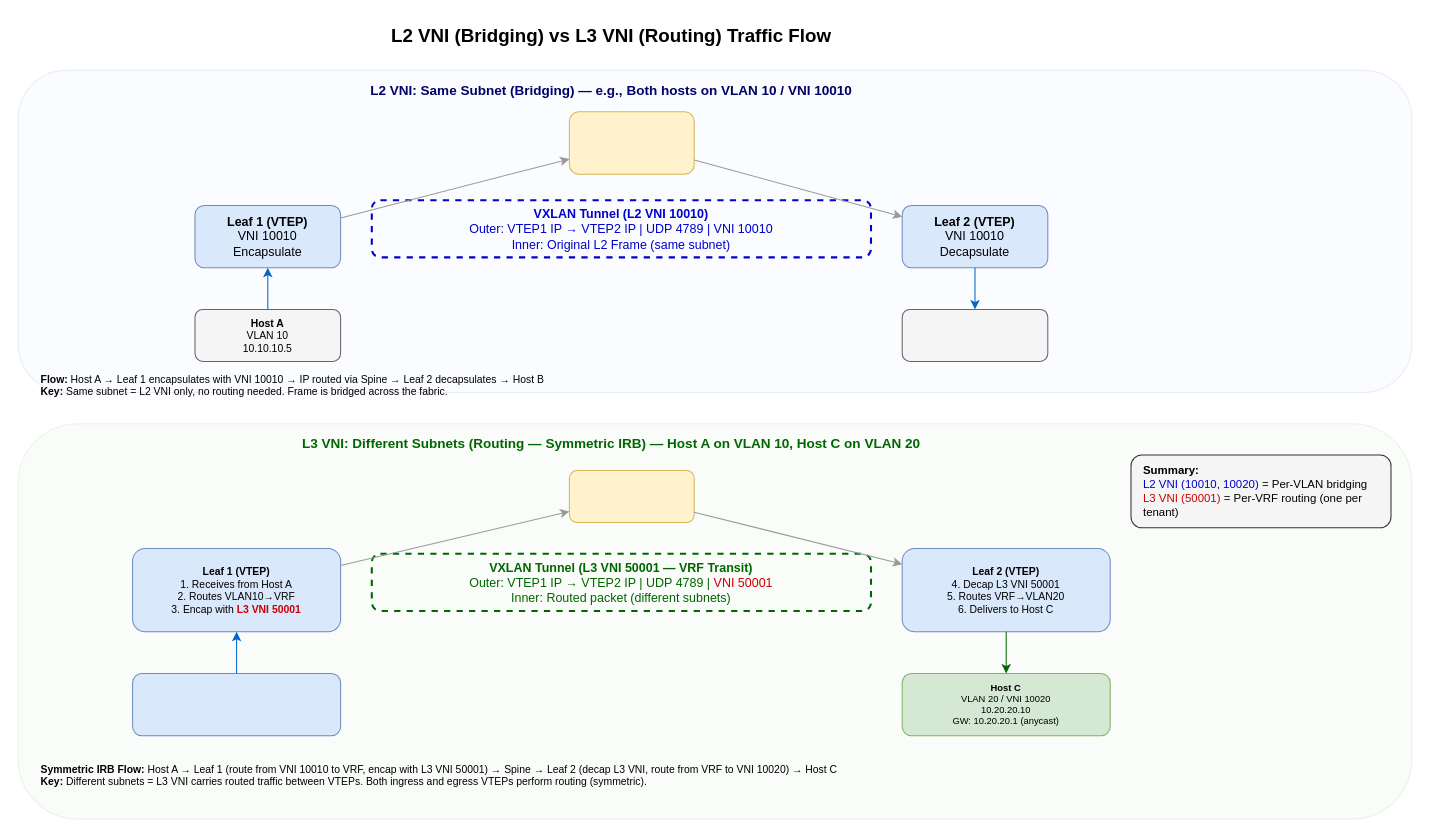
The diagram is 1430 pixels wide and 837 high, and some of its shapes have lost their labels. The shapes that lost their labels are listed below. From the top down, each one's centre as x and y in pixels, then its label:
At point 631,142: "Spine (Pure L3 Router) No VTEP".
At point 974,334: "Host B VLAN 10 10.10.10.20".
At point 631,496: "Spine (Pure L3 Router)".
At point 236,704: "Host A VLAN 10 / VNI 10010 10.10.10.5 GW: 10.10.10.1 (anycast)".
